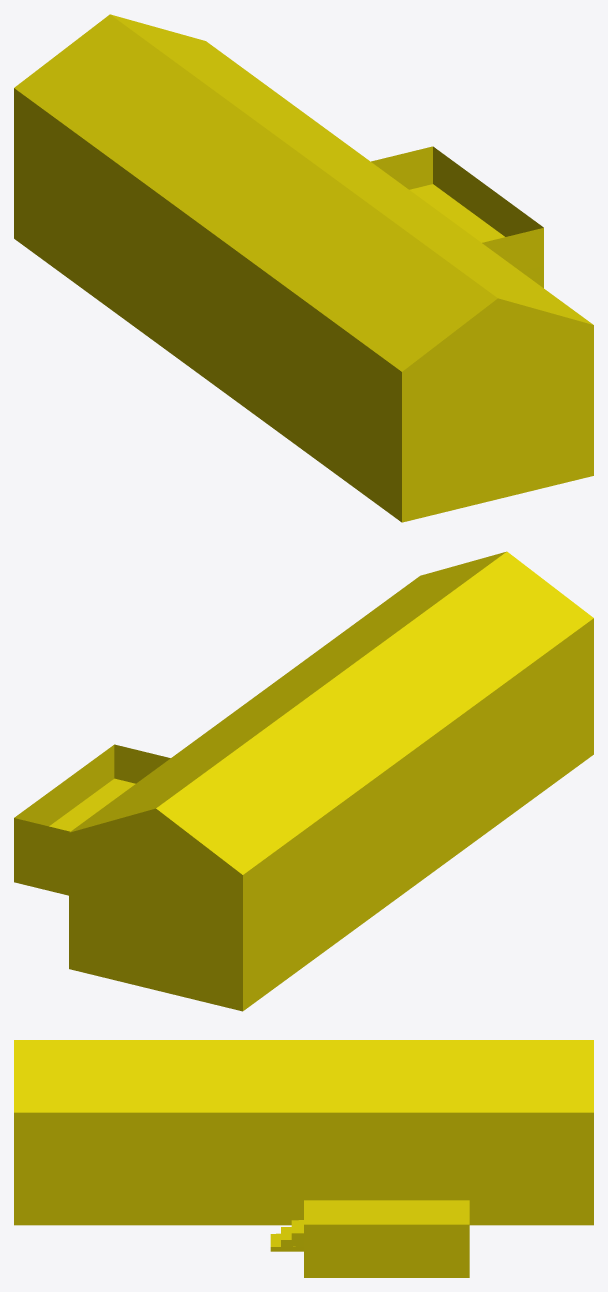
Rendered from trailer_house_1.glb.
3 views of the same model, one above another, from view 1: azimuth 30°, elevation 25°; view 2: azimuth 150°, elevation 25°; view 3: azimuth 270°, elevation 25° (orthographic). The views are drawn at different scales.
Parts seen in each view (by area): view 1: TrailerHouse1-col; view 2: TrailerHouse1-col; view 3: TrailerHouse1-col.
Boxes of the visible parts, <box> form: TrailerHouse1-col: <box>14,14,593,522</box>; TrailerHouse1-col: <box>14,551,593,1011</box>; TrailerHouse1-col: <box>14,1040,593,1277</box>.
Bounding box in the file's own units: 7 × 4.01 × 14.
